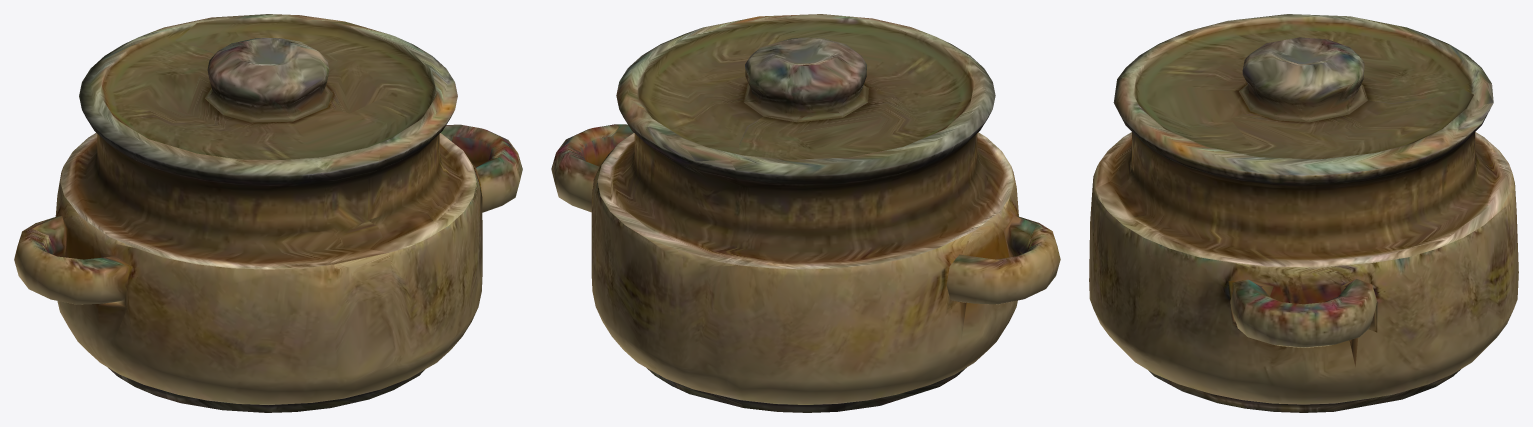
Rendered from ceramic-pot.glb.
The picture shows the model from 3 angles, left to right: view 1: azimuth 30°, elevation 25°; view 2: azimuth 150°, elevation 25°; view 3: azimuth 270°, elevation 25°; orthographic projection.
Parts seen in each view (by area): view 1: ceramic_pot; view 2: ceramic_pot; view 3: ceramic_pot.
Part boxes in pixels (box(x1,y1,x2,y2)): ceramic_pot: box(14, 14, 522, 412); ceramic_pot: box(551, 14, 1060, 412); ceramic_pot: box(1089, 14, 1518, 412).
Size of the model in its own units: 0.6563 by 0.3717 by 0.5012.
1 material, 1 textured.
